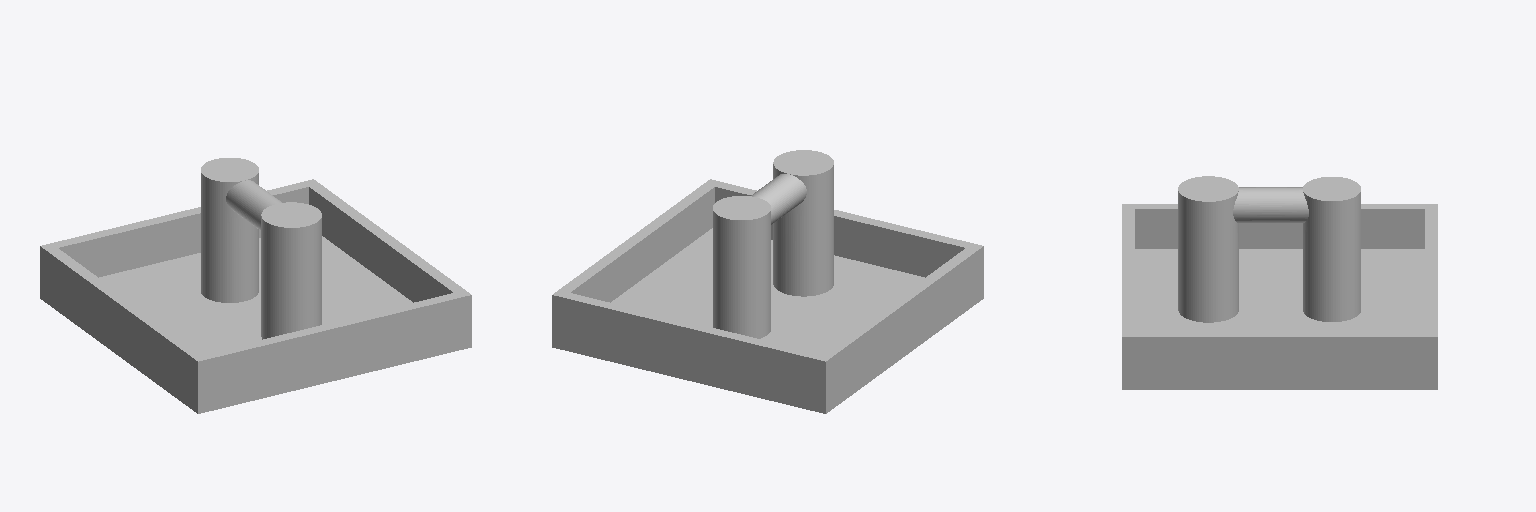
Rendered from test-fusion-fixed.obj.
The picture shows the model from 3 angles: view 1: azimuth 30°, elevation 25°; view 2: azimuth 150°, elevation 25°; view 3: azimuth 270°, elevation 25°; orthographic projection.
Parts seen in each view (by area): view 1: Body2; view 2: Body2; view 3: Body2.
Boxes of the visible parts, x1=… form: Body2: x1=40, y1=158, x2=471, y2=413; Body2: x1=552, y1=150, x2=983, y2=413; Body2: x1=1122, y1=176, x2=1437, y2=389.
Bounding box in the file's own units: 109 × 51 × 109.